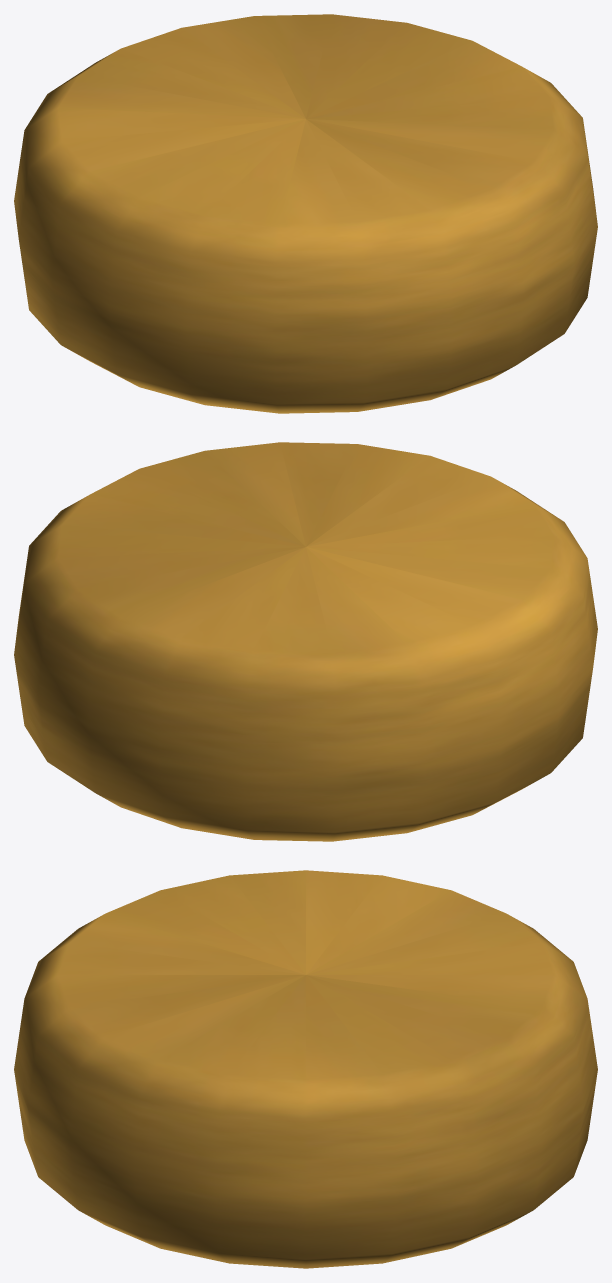
The model's file is it_cheese.glb.
The picture shows the model from 3 angles, top to bottom: view 1: azimuth 30°, elevation 25°; view 2: azimuth 150°, elevation 25°; view 3: azimuth 270°, elevation 25°; orthographic projection.
Visible parts, largest first — view 1: it_cheese_lod0; view 2: it_cheese_lod0; view 3: it_cheese_lod0.
Boxes of the visible parts, x1,y1,x2,y2 form: it_cheese_lod0: (14,14,597,413); it_cheese_lod0: (14,442,597,841); it_cheese_lod0: (14,870,597,1268).
Size of what is drawn, in the model's own units: 0.224 by 0.08 by 0.224.
1 material, 1 textured.
